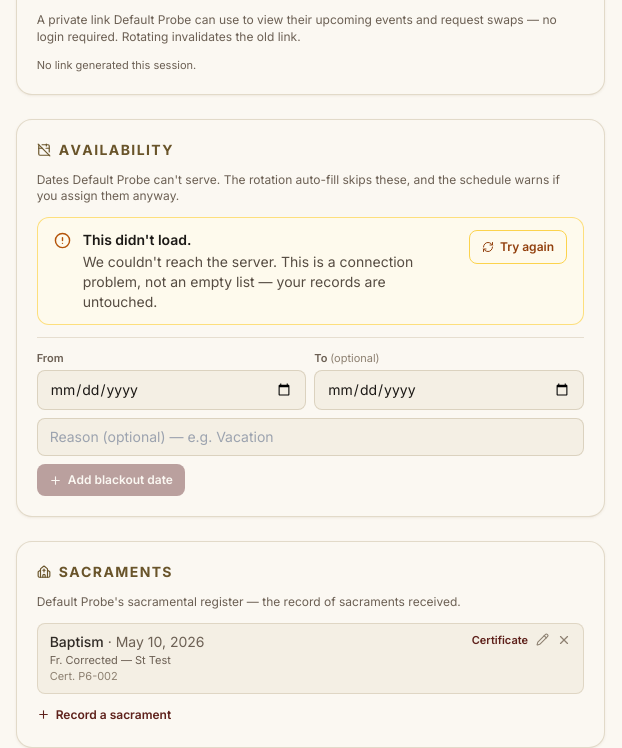
Scenario: a member's sacramental record › a saved record whose reload fails is reported as saved, not as absent
(page scrolled)
Expected: the text "Cert. P6-002" is shown, [50,669,118,683]
Click the button "Record a sacrament" at (104, 715), box [37,706,171,724]
(page scrolled)
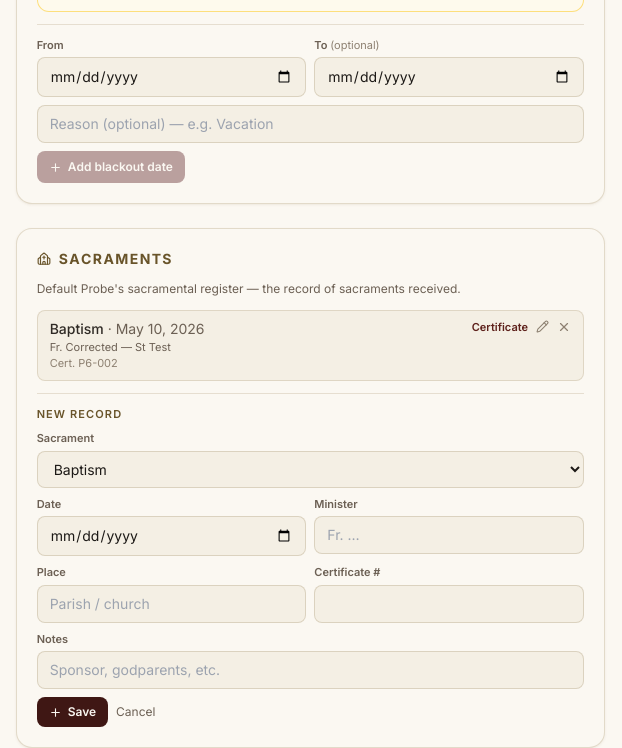
Click the button "Save" at (72, 712), box [37,697,108,727]
(page scrolled)
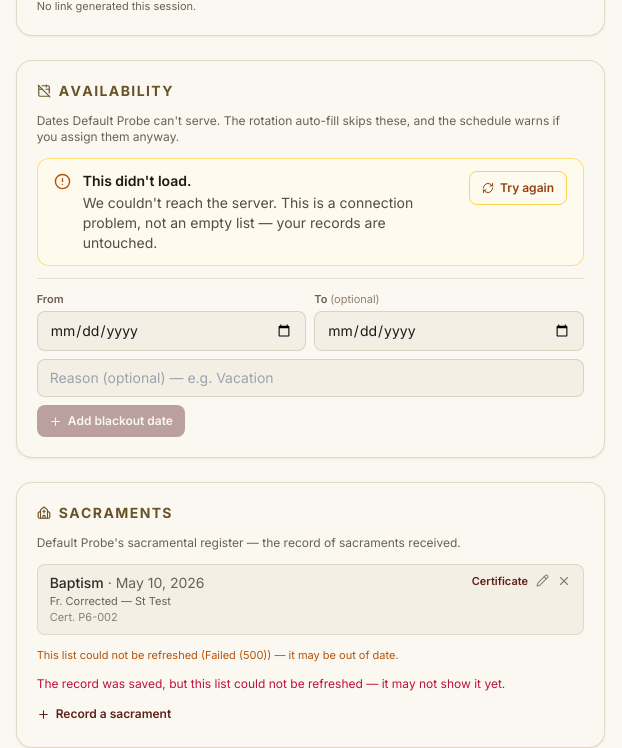
Expected: the text "Cert. P6-002" is shown, [50,610,118,624]
Expected: the text "was saved, but this list could not be refreshed" is shown, [37,676,505,691]
